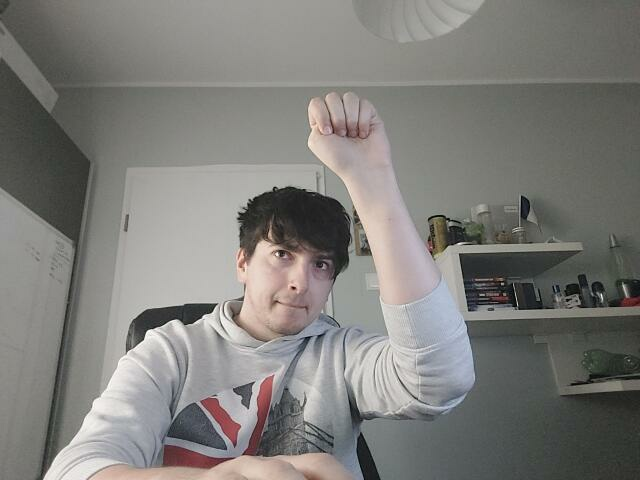yes: (303, 88, 389, 158)
